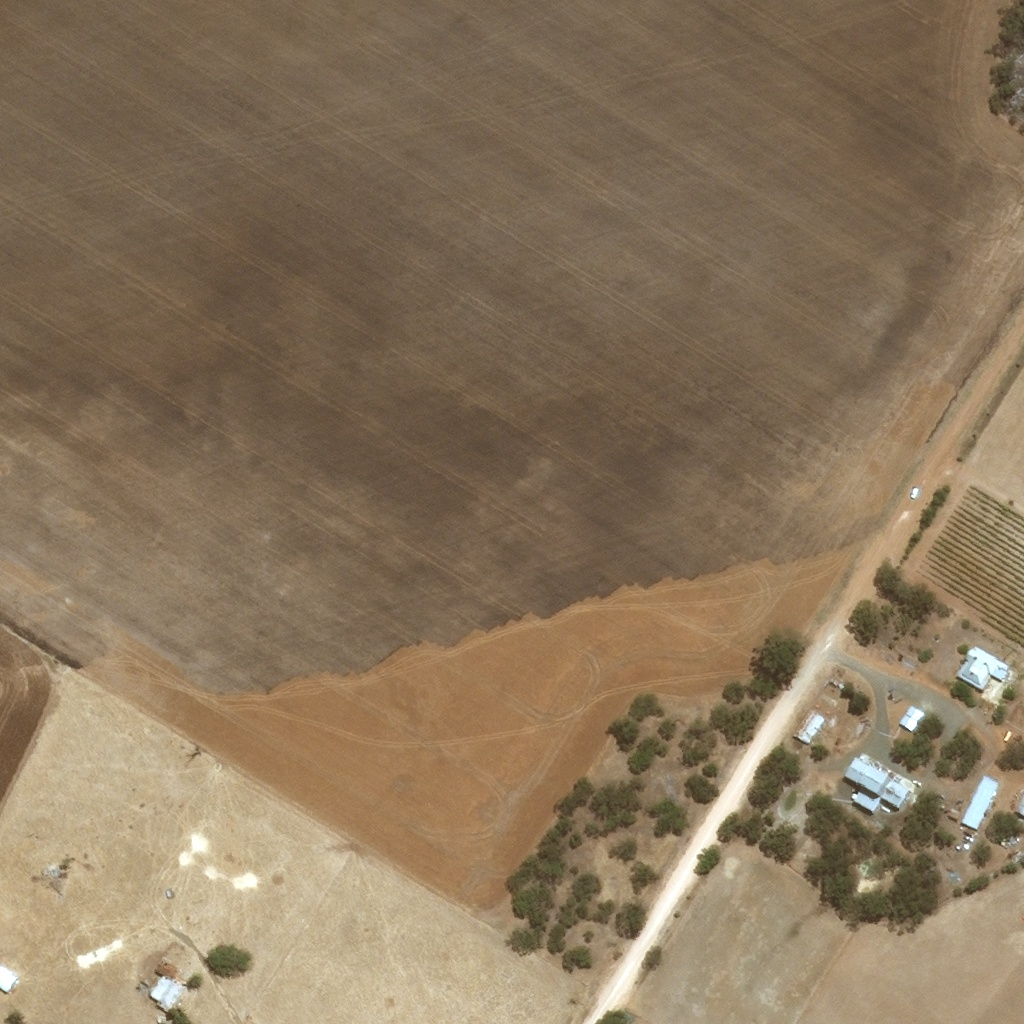0 no-damage: (954, 643, 1013, 691), (959, 775, 999, 831), (154, 981, 182, 1014), (897, 704, 924, 732), (147, 975, 171, 1000), (946, 808, 960, 822), (960, 827, 972, 838), (156, 1015, 165, 1023), (967, 838, 972, 843)
1 minor-damage: (843, 752, 915, 812), (792, 708, 824, 744)
2 major-damage: (155, 957, 182, 980)
